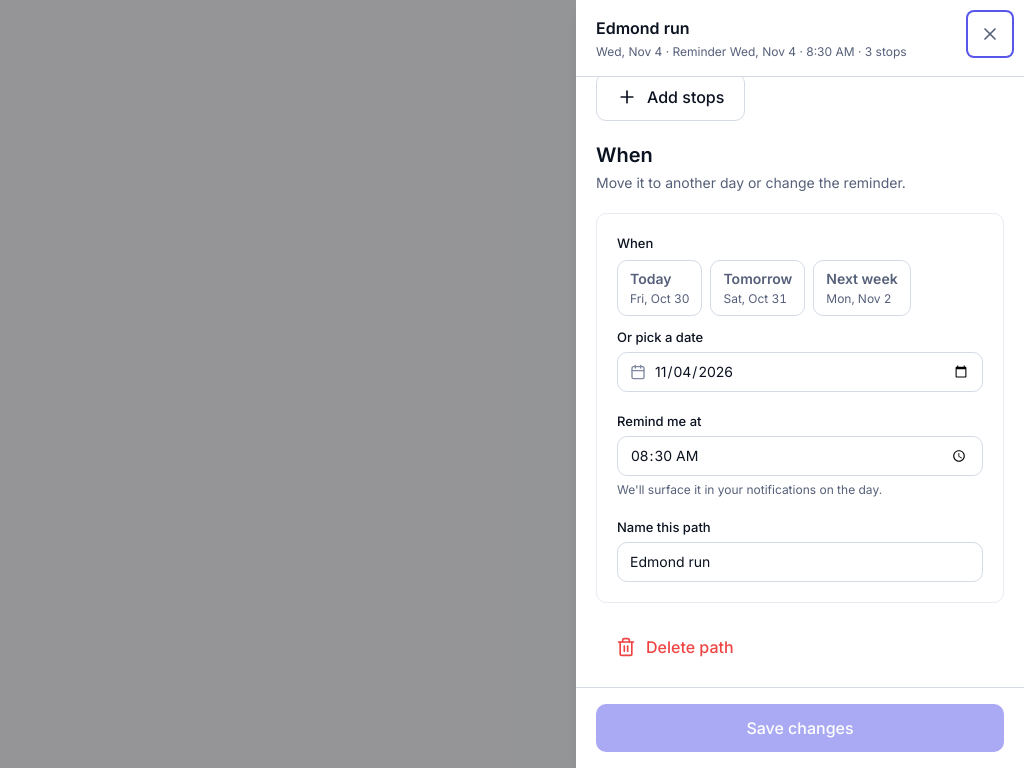
Test case: PlannedPathSheet: delete › asks to confirm, and Keep it backs out
(page scrolled)
What coordinates should you click on to do the following:
click the button "Delete path"
I would click on:
 (675, 647)
Its box is [596,623,754,671].
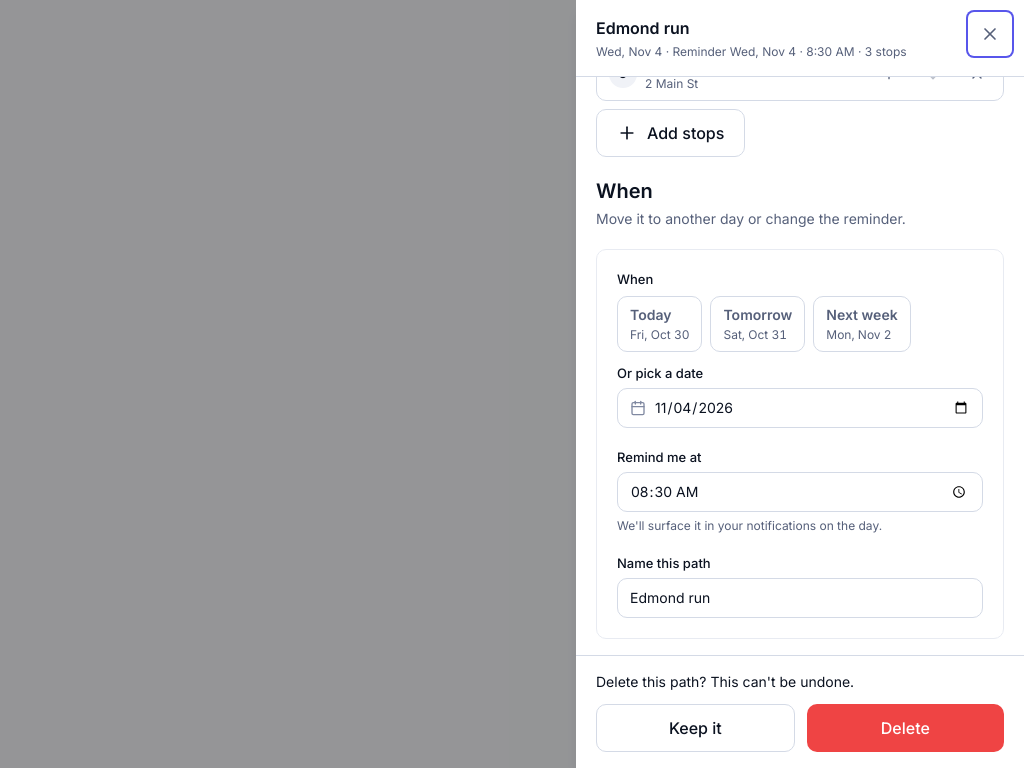
Check: the text "Delete this path? This can't be undone." is shown, box [596,673,854,690]
What coordinates should you click on to do the following:
click the button "Keep it"
I would click on:
 (695, 728)
Its box is [596,704,795,752].
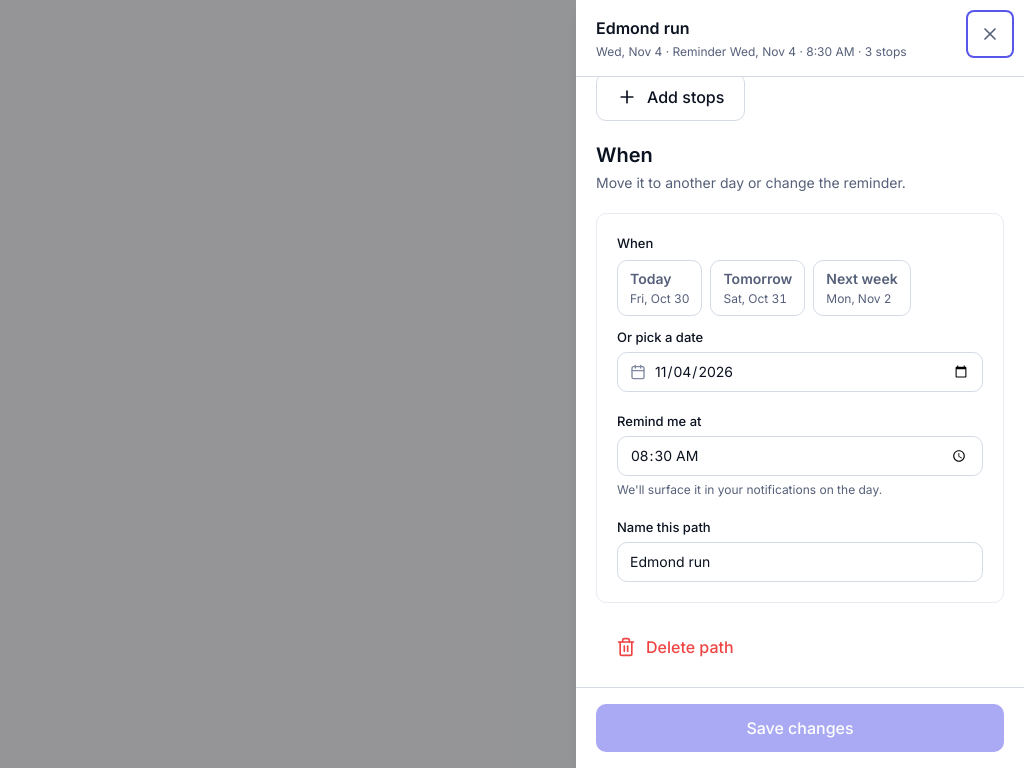
Check: the text "Delete this path?" is gone
